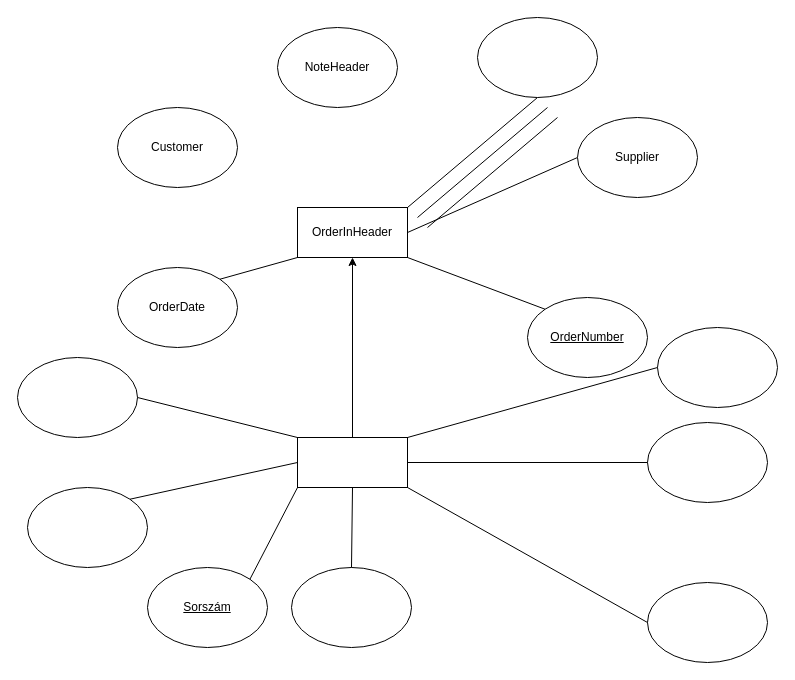
This 795x680 diagram has some shape labels left out. The centre of each missing label's shape, as x and y in pixels:
"NoteFooter" goes at [537,57].
"OrderInRow" goes at [352,462].
